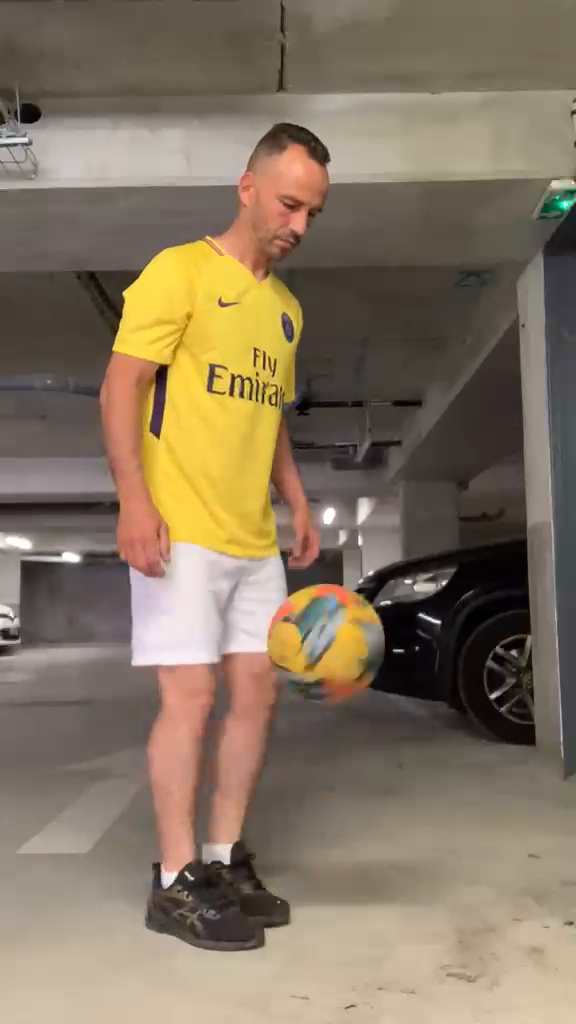ball: (266, 583, 386, 703)
